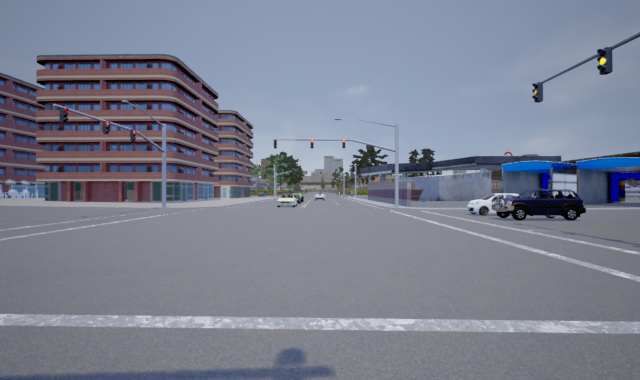vehicle: (490, 188, 585, 221), (466, 193, 530, 216), (276, 193, 298, 209)
